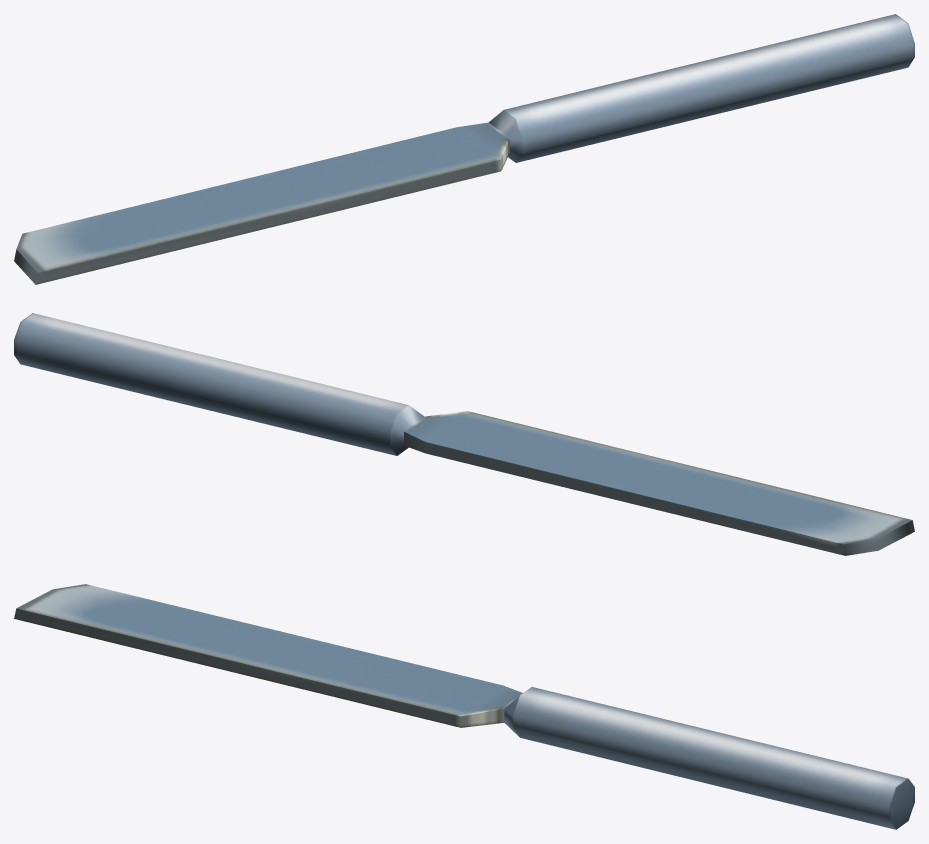
Rendered from Cake_Knife_04.fbx.
3 renders of one model, top to bottom at view 1: azimuth 30°, elevation 25°; view 2: azimuth 150°, elevation 25°; view 3: azimuth 330°, elevation 25°, orthographic. The views are drawn at different scales.
Parts seen in each view (by area): view 1: Cake_Knife_04; view 2: Cake_Knife_04; view 3: Cake_Knife_04.
Part boxes in pixels (x1,y1,x2,y2): Cake_Knife_04: (14,14,914,284); Cake_Knife_04: (14,313,914,555); Cake_Knife_04: (14,584,914,829).
Bounding box in the file's own units: 120 × 5.61 × 10.13.
